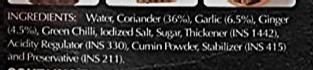ingredients: (5, 8, 297, 67)
